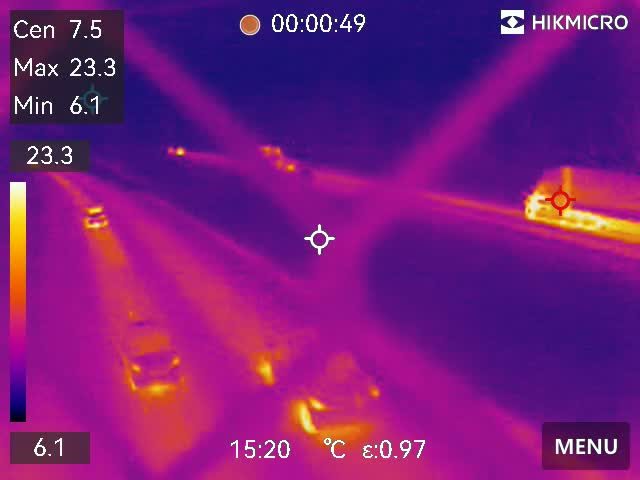heavyTruck: (522, 164, 640, 239)
vehicle: (111, 321, 187, 390), (82, 204, 110, 231)
